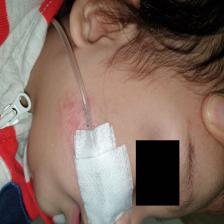DA: (58, 95, 96, 155)
